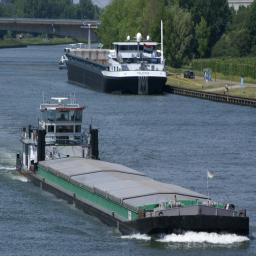tugboat: (16, 96, 104, 188)
